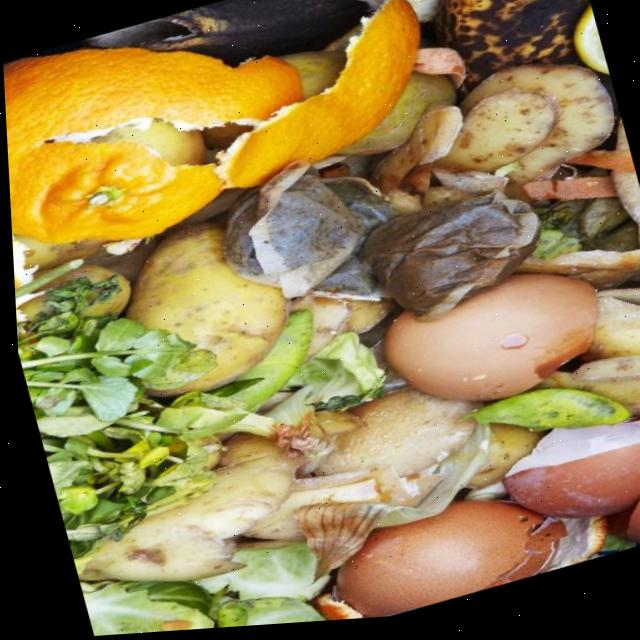Wet: (0, 0, 640, 640), (79, 50, 640, 426), (209, 379, 640, 630), (433, 0, 608, 115)
